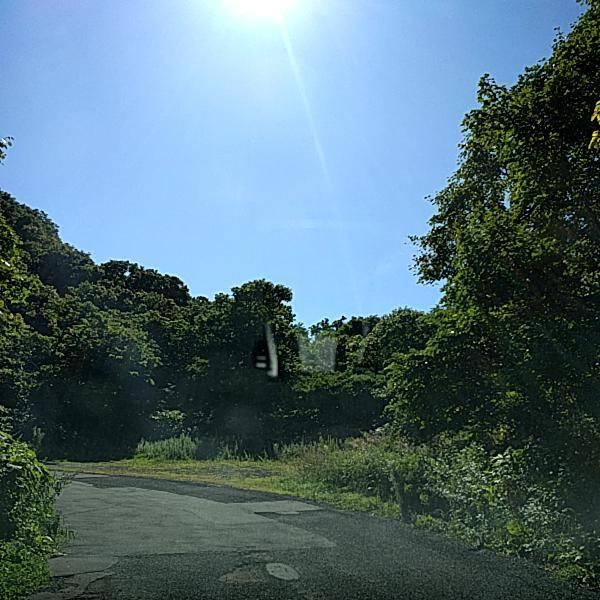D40: (214, 558, 265, 587), (264, 560, 303, 582), (232, 545, 270, 564)
